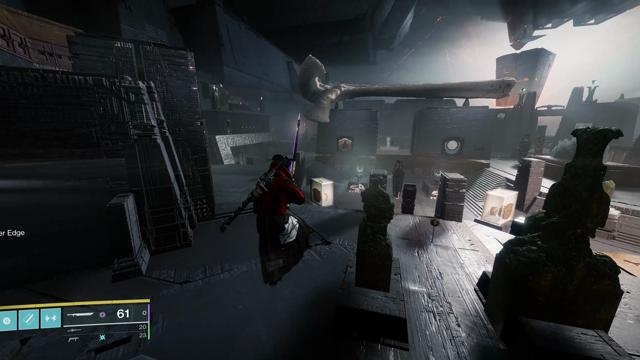commune: (497, 113, 505, 120)
pyramid: (338, 138, 352, 152)
traveler: (444, 139, 460, 154)
